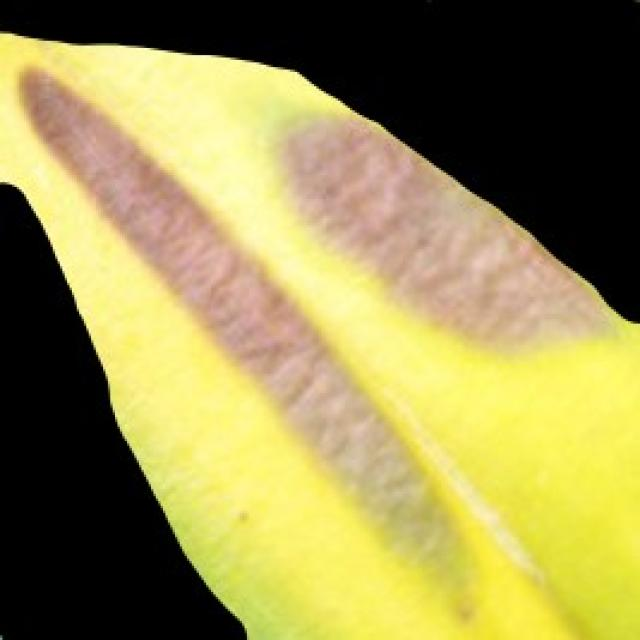mite: (0, 170, 249, 638), (381, 0, 638, 326), (0, 175, 115, 638), (412, 0, 446, 7), (621, 0, 638, 7), (630, 0, 638, 7)
spots: (0, 14, 638, 638)
